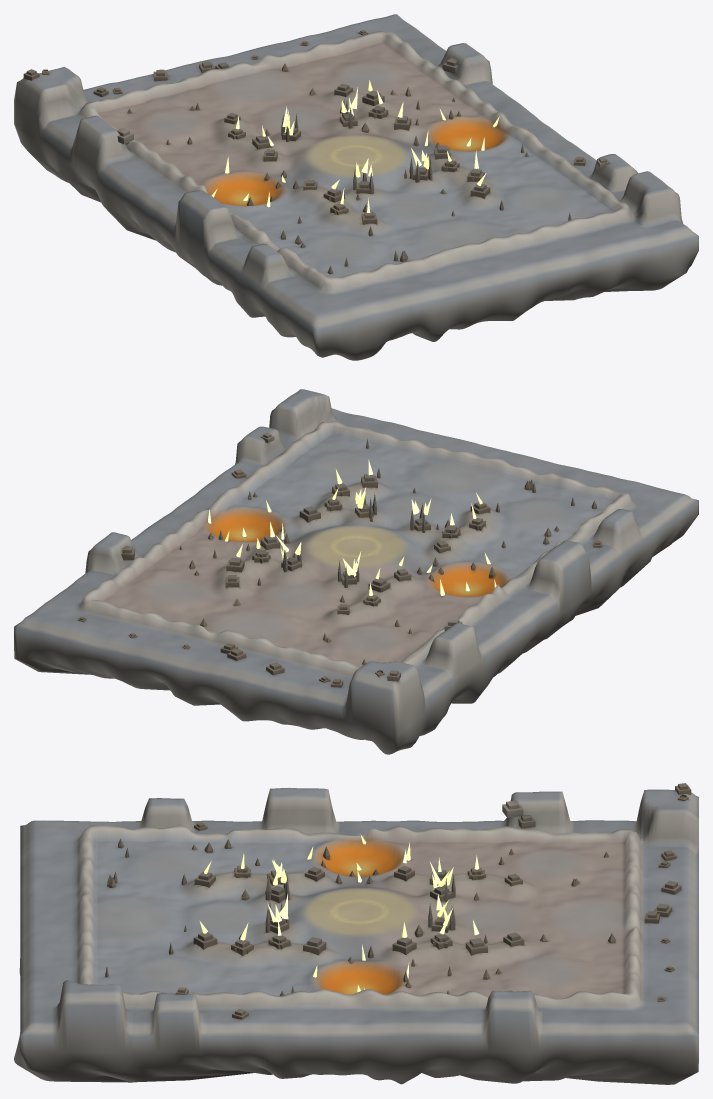
Rendered from battlefield.glb.
3 renders of one model, top to bottom at view 1: azimuth 30°, elevation 25°; view 2: azimuth 150°, elevation 25°; view 3: azimuth 270°, elevation 25°, orthographic. The views are drawn at different scales.
Visible parts, largest first — view 1: Island, Rocks, Crystals; view 2: Island, Rocks, Crystals; view 3: Island, Rocks, Crystals.
Part boxes in pixels (x1=…): Island: x1=14, y1=14, x2=698, y2=360; Rocks: x1=23, y1=30, x2=609, y2=274; Crystals: x1=211, y1=80, x2=499, y2=212; Island: x1=14, y1=389, x2=698, y2=754; Rocks: x1=77, y1=433, x2=601, y2=687; Crystals: x1=208, y1=459, x2=496, y2=595; Island: x1=14, y1=787, x2=698, y2=1084; Rocks: x1=105, y1=783, x2=691, y2=1019; Crystals: x1=199, y1=834, x2=479, y2=992.
Size of the model in its own units: 12.85 by 5.35 by 17.54.
